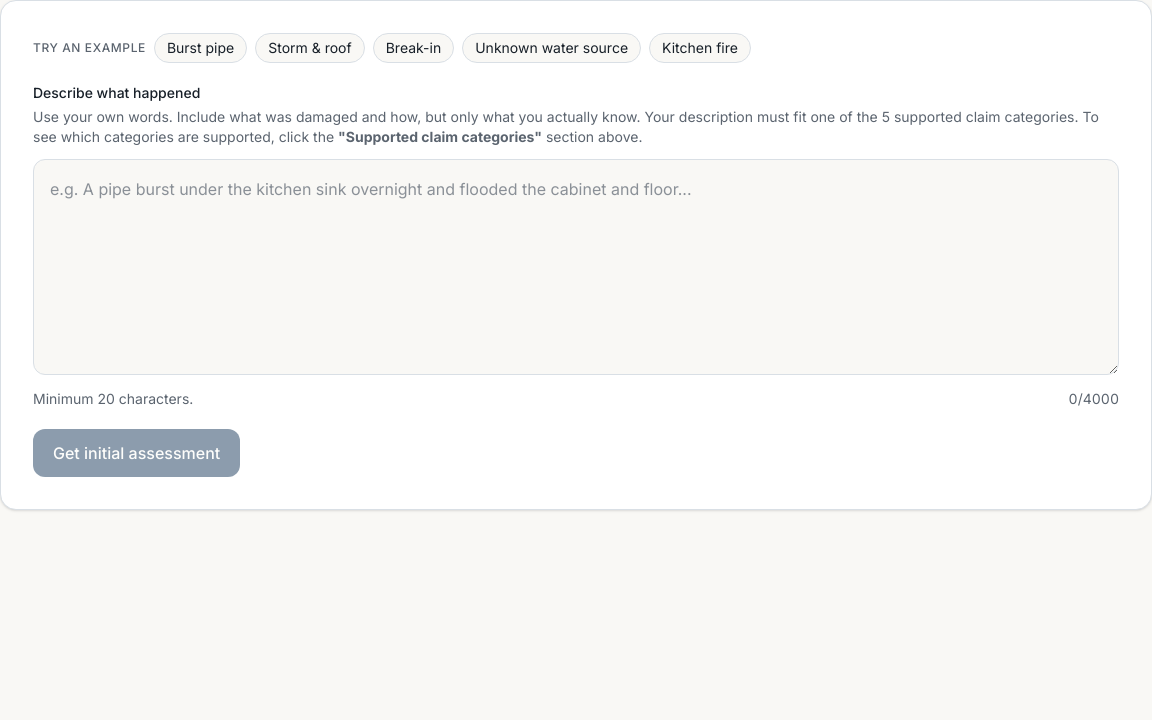
Scenario: IntakeForm › shows a safe error for an unreadable response body
Type "A pipe burst under the kitchen sink and damaged the cabinet and floor." into the text box labelled "Describe what happened" at (576, 267), box [33,159,1119,375]
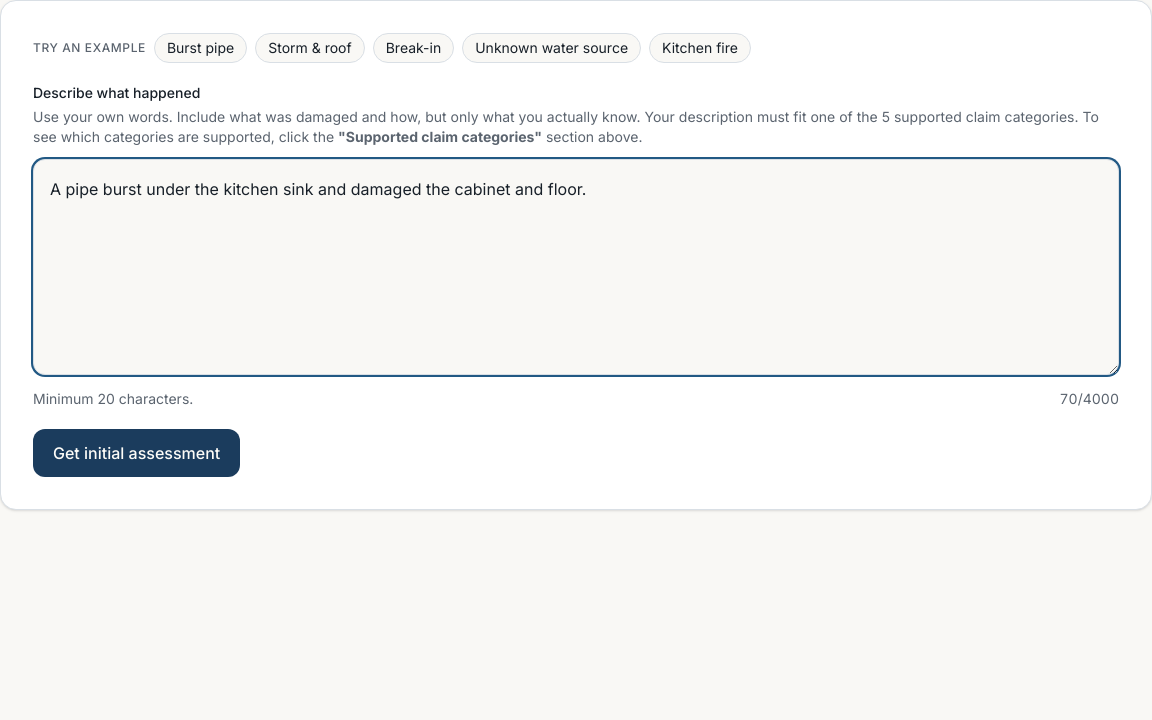
Click the button "Get initial assessment" at (137, 453), box [33,429,240,477]
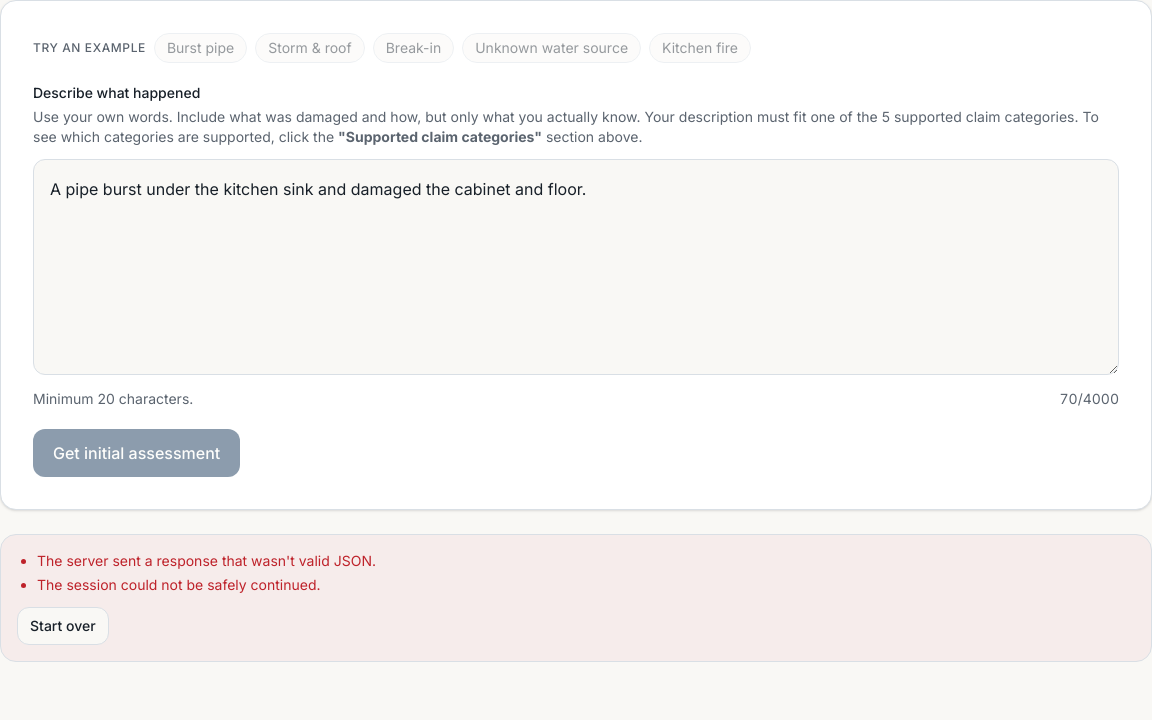
Now the message shows "The server sent a response that wasn't valid JSON. The session could not be safely continued.", box [0,534,1151,662]
